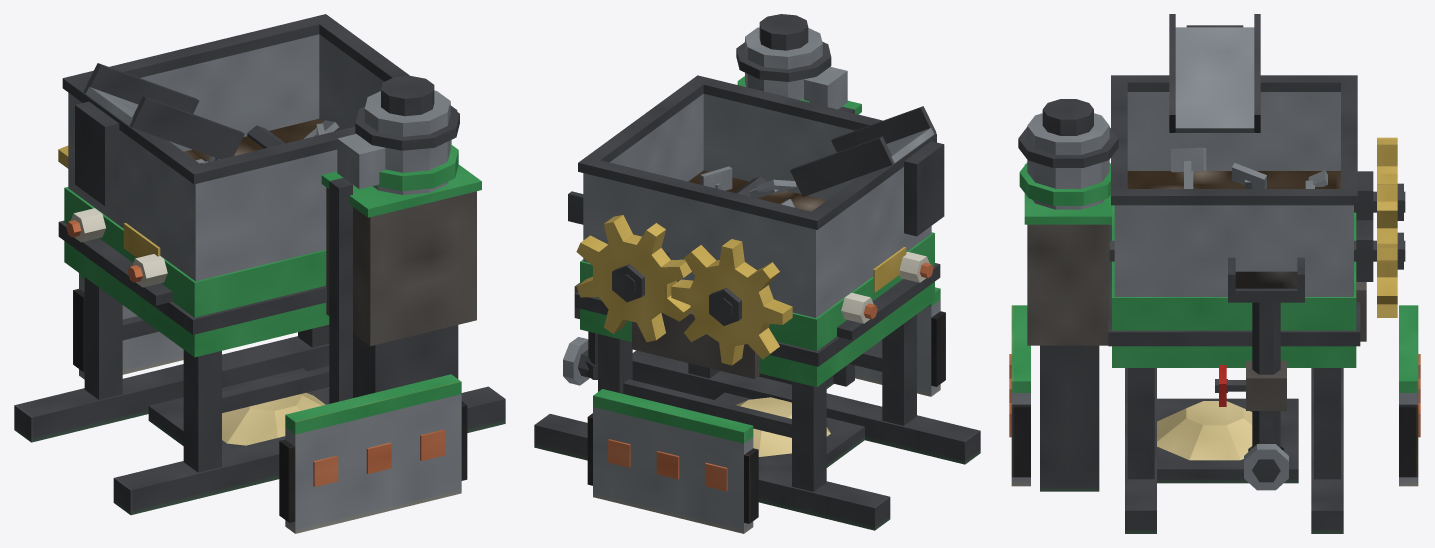
The model's file is tarsandseparator50v.obj.
3 views of the same model, side by side, from view 1: azimuth 30°, elevation 25°; view 2: azimuth 150°, elevation 25°; view 3: azimuth 270°, elevation 25° (orthographic). The views are drawn at different scales.
Visible parts, largest first — view 1: main, rot2; view 2: main, rot2, rot1; view 3: main, rot1, rot2.
Boxes of the visible parts, x1,y1,x2,y2 form: main: (14,14,505,533); rot2: (247,120,338,148); main: (534,14,980,533); rot2: (576,166,796,342); rot1: (671,199,794,365); main: (1009,14,1420,533); rot1: (1171,137,1405,220); rot2: (1109,184,1405,317).
Size of the model in its own units: 0.9875 by 0.9819 by 1.
1 material, 1 textured.
